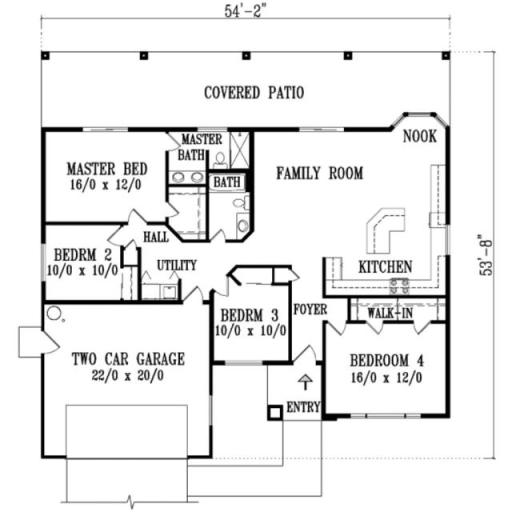Room: (259, 136, 440, 228)
bathroom: (172, 136, 245, 236)
bedroom: (328, 326, 448, 418), (48, 130, 170, 218), (48, 227, 131, 297), (216, 298, 292, 360)
garage: (42, 304, 210, 460)
hall: (132, 223, 236, 297)
kitchen: (332, 232, 445, 303)
